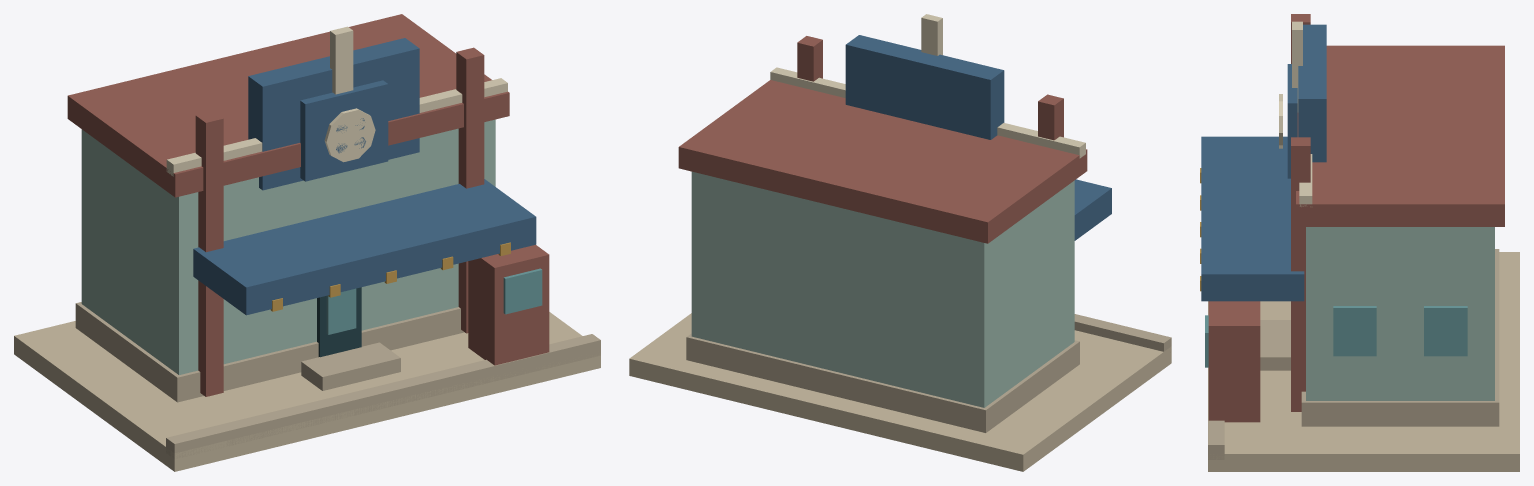
Rendered from cinema-seabreeze-complete.glb.
3 renders of one model, left to right at view 1: azimuth 30°, elevation 25°; view 2: azimuth 150°, elevation 25°; view 3: azimuth 270°, elevation 25°, orthographic. The views are drawn at different scales.
Visible parts, largest first — view 1: cinema; view 2: cinema; view 3: cinema.
Part boxes in pixels (bbox=[...]): cinema: bbox=[14, 14, 600, 471]; cinema: bbox=[629, 14, 1171, 471]; cinema: bbox=[1200, 14, 1519, 471].
Bounding box in the file's own units: 2.88 × 2.3 × 1.93.
